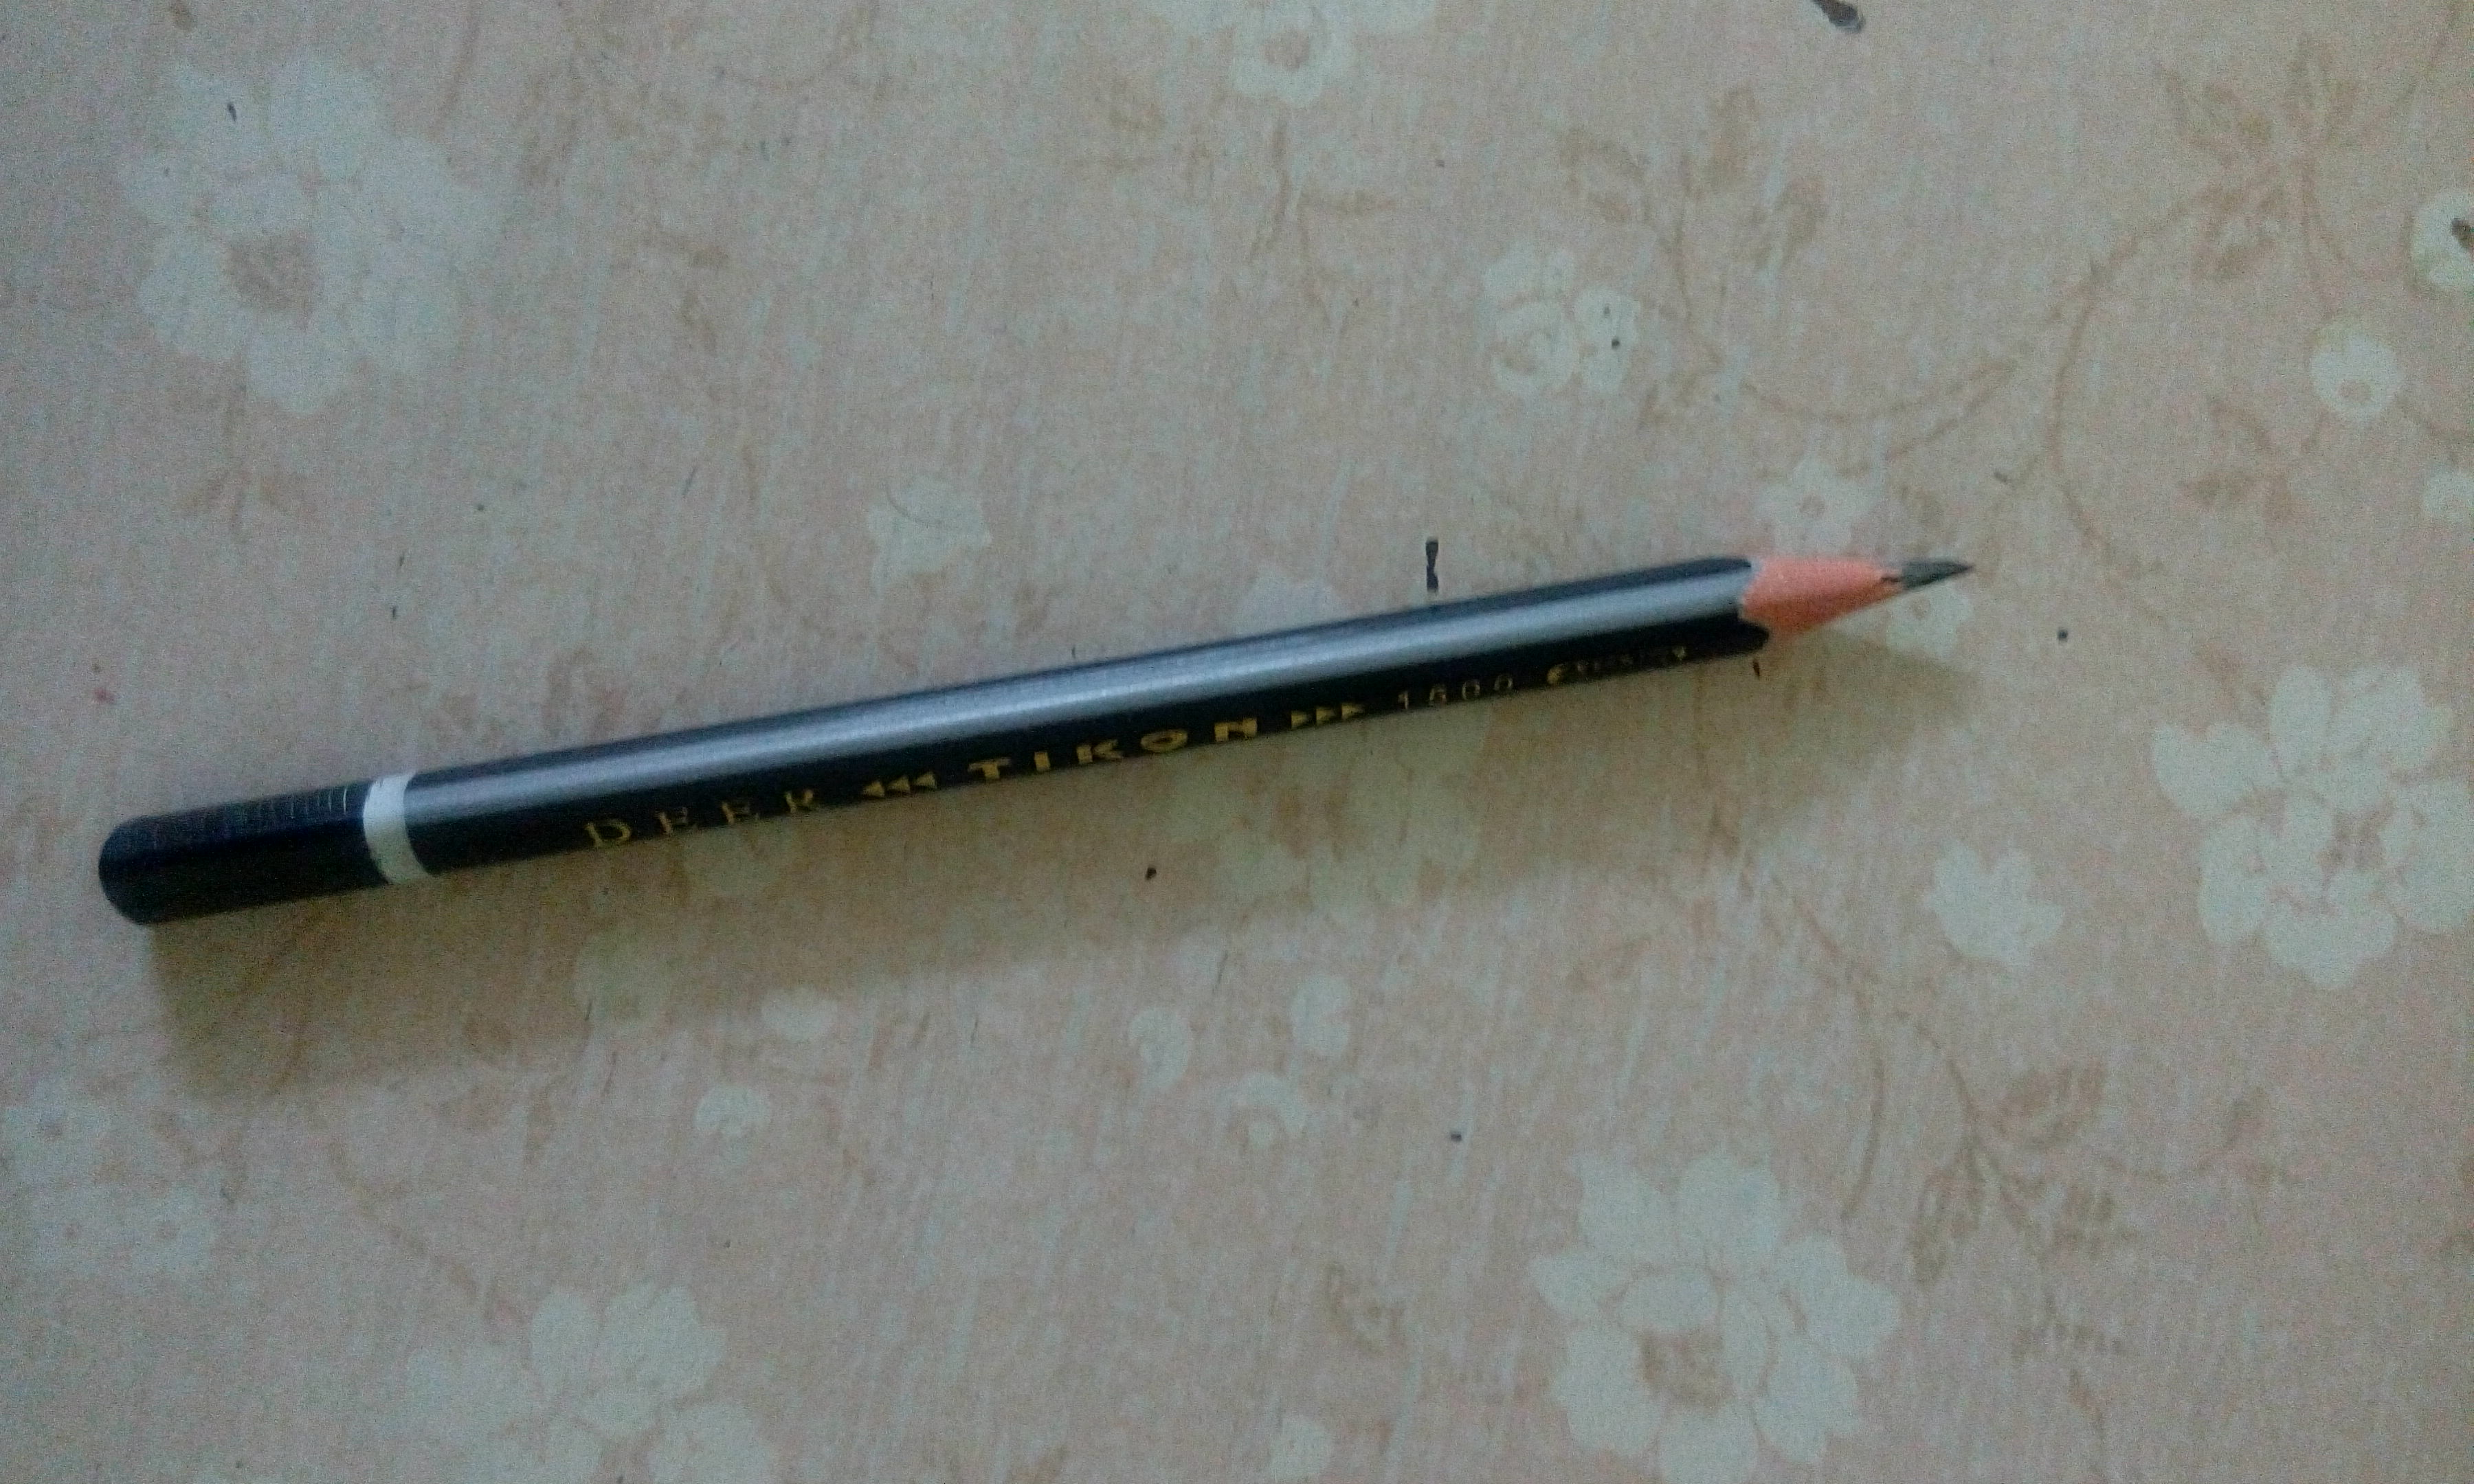pen_tip: (1673, 477, 2025, 684)
